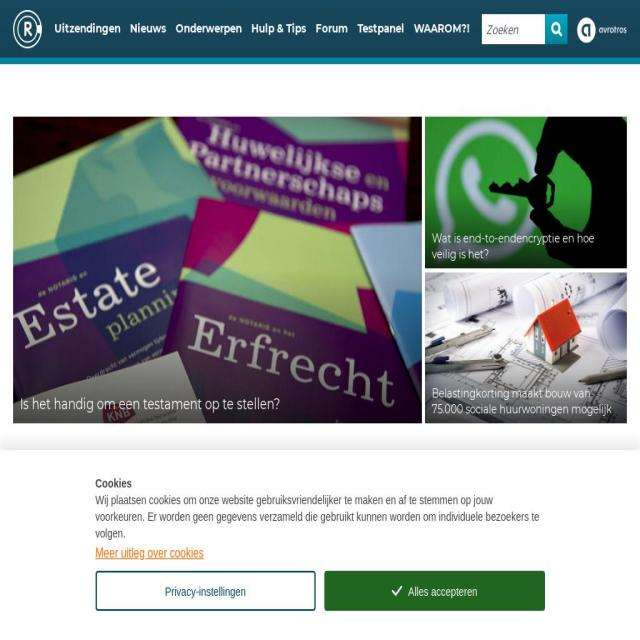button: (12, 117, 422, 425), (422, 272, 627, 424), (422, 117, 627, 268), (12, 525, 152, 640), (161, 525, 300, 640), (309, 525, 448, 640), (324, 571, 545, 611), (95, 571, 316, 611), (577, 0, 627, 58), (12, 0, 42, 58), (545, 14, 568, 44), (627, 482, 627, 483)
field: (481, 14, 568, 44)
heading: (95, 475, 545, 492), (431, 229, 621, 262), (431, 385, 621, 417), (19, 394, 280, 414), (473, 483, 623, 515), (12, 483, 58, 499)
image: (12, 112, 422, 428), (424, 116, 628, 268), (424, 272, 628, 424), (473, 541, 628, 640), (12, 523, 152, 632), (161, 525, 300, 631), (309, 525, 448, 631), (392, 585, 402, 596)
link: (175, 0, 242, 58), (54, 0, 120, 58), (413, 0, 469, 58), (251, 0, 306, 58), (357, 0, 404, 58), (130, 0, 167, 58), (315, 0, 348, 58), (95, 546, 204, 560)
text: (95, 492, 539, 540), (405, 584, 477, 598)
